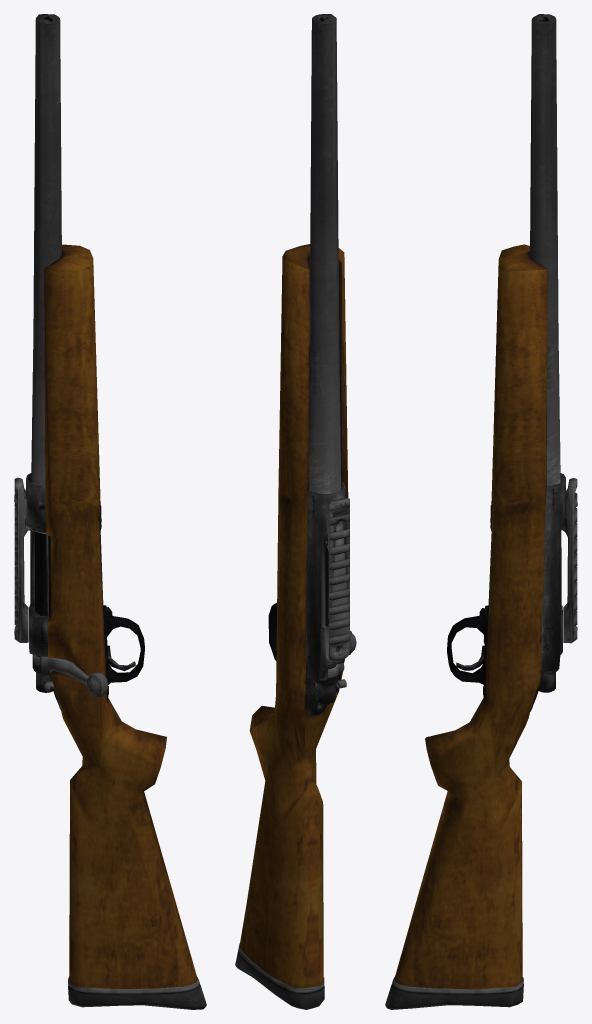
File: VarmintRifleNoMag.fbx
3 views of the same model, side by side, from view 1: azimuth 90°, elevation 25°; view 2: azimuth 210°, elevation 25°; view 3: azimuth 270°, elevation 25° (orthographic).
Visible parts, largest first — view 1: VarmintRifle.001; view 2: VarmintRifle.001; view 3: VarmintRifle.001.
Boxes of the visible parts, bbox=[...] form: VarmintRifle.001: bbox=[14, 14, 206, 1009]; VarmintRifle.001: bbox=[235, 14, 356, 1009]; VarmintRifle.001: bbox=[385, 14, 577, 1009].
Size of the model in its own units: 0.0521 by 0.598 by 0.1056.
